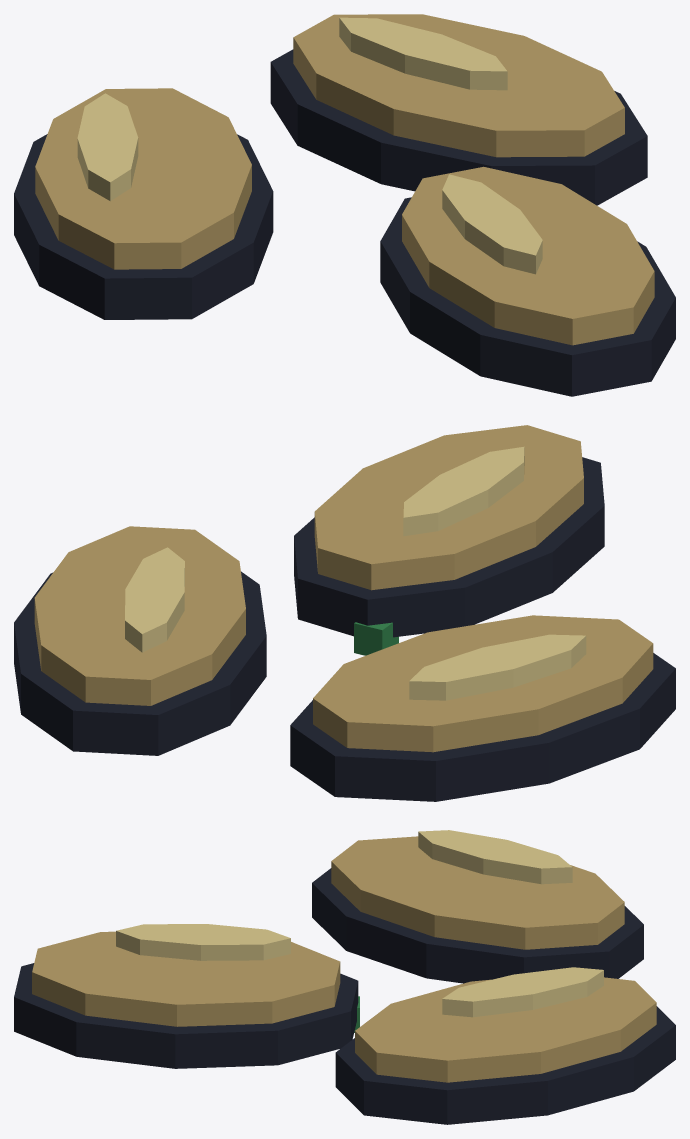
File: wheat_seeds.fbx
The picture shows the model from 3 angles, top to bottom: view 1: azimuth 30°, elevation 25°; view 2: azimuth 150°, elevation 25°; view 3: azimuth 270°, elevation 25°; orthographic projection. The views are drawn at different scales.
Visible parts, largest first — view 1: wheat_seeds__Icon; view 2: wheat_seeds__Icon, wheat_seeds__Origin; view 3: wheat_seeds__Icon.
Boxes of the visible parts, box(x1,y1,x2,y2) form: wheat_seeds__Icon: box(14, 14, 675, 396); wheat_seeds__Icon: box(14, 425, 675, 801); wheat_seeds__Origin: box(354, 622, 398, 655); wheat_seeds__Icon: box(14, 830, 675, 1124).
Bounding box in the file's own units: 0.818 × 0.145 × 0.9527.
Materials: 1 (1 with a texture image).
